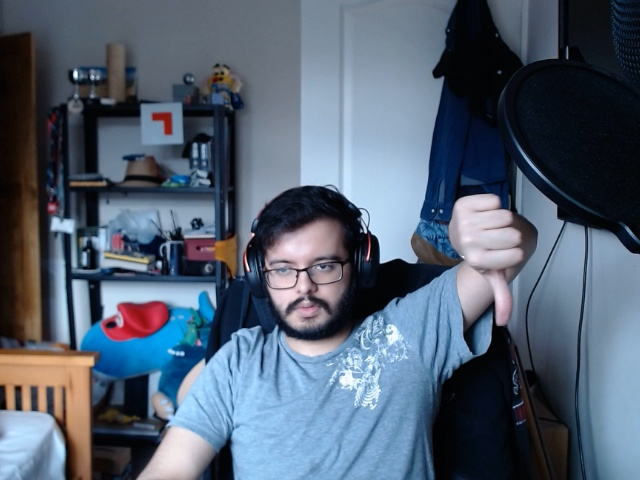Thumbs down: (444, 185, 530, 336)
